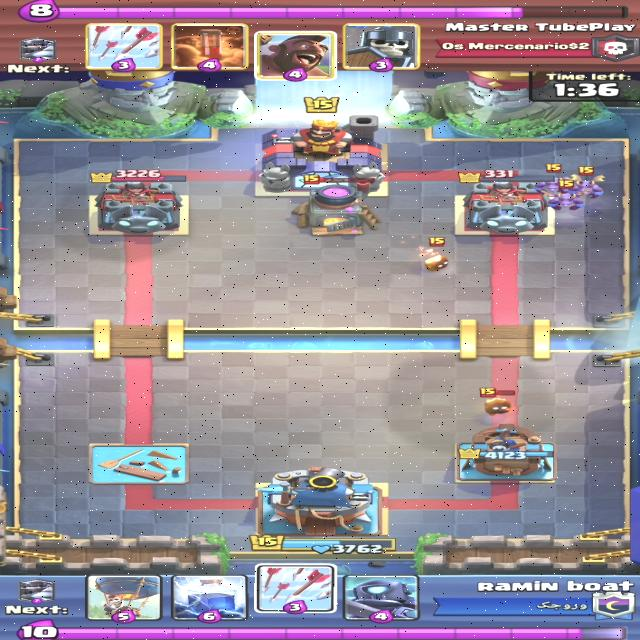Enemy-FireSpirit: (417, 237, 451, 272), (477, 387, 517, 416)
Enemy-Furnace: (291, 174, 382, 237)
Enemy-Minion: (532, 164, 576, 195), (547, 179, 585, 210), (570, 167, 606, 198)
